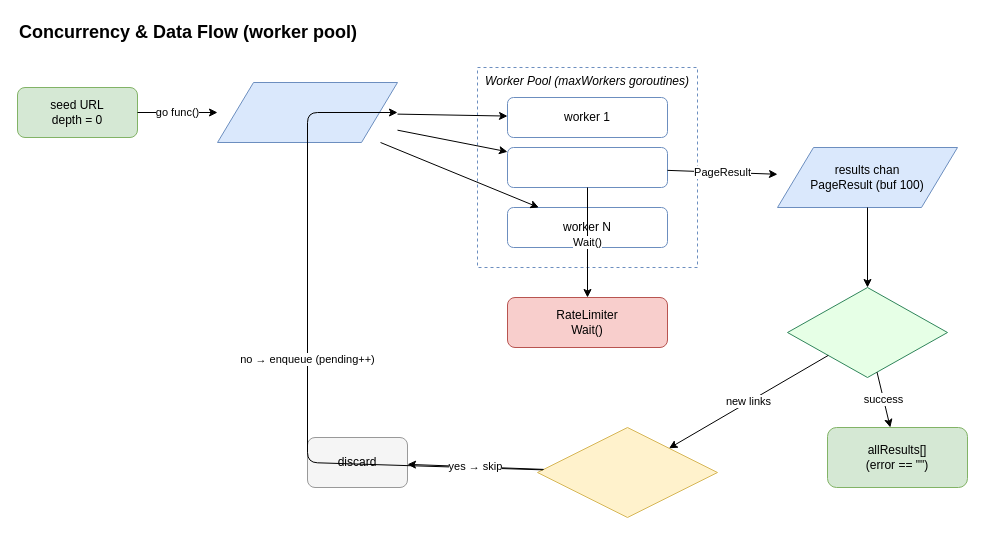
The diagram is 985 pixels wide and 535 high, and some of its shapes have lost their labels. The shapes that lost their labels are listed below. From the top down, each one's centre as x and y in pixels, then its label:
the point at 307,112: jobs chan CrawlTask (buf 100)
the point at 587,167: worker 2
the point at 867,332: Crawl drain loop pending > 0 ?
the point at 627,472: MarkVisited(link) already visited?
